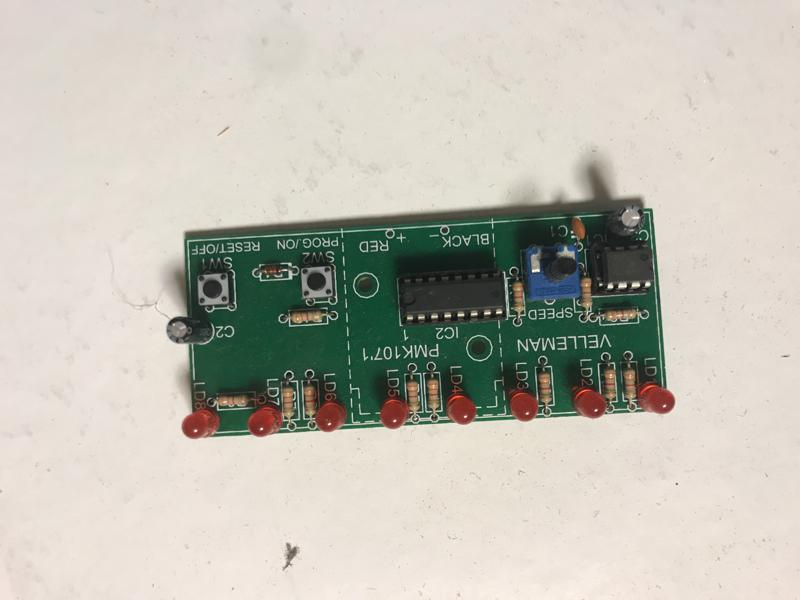Capacitor: (601, 205, 643, 243), (163, 316, 216, 346)
Diode: (257, 261, 292, 278)
LED: (636, 380, 677, 416), (569, 386, 609, 420), (504, 387, 541, 423), (181, 409, 220, 439), (376, 396, 410, 430), (445, 393, 478, 427), (246, 406, 281, 438), (313, 401, 346, 432)
Resistor: (619, 363, 642, 404), (285, 306, 331, 325), (597, 304, 643, 323), (506, 278, 528, 316), (279, 381, 299, 421), (576, 271, 595, 313), (424, 373, 442, 416), (212, 391, 255, 409), (602, 363, 620, 404), (537, 366, 555, 406), (405, 376, 422, 414), (301, 383, 319, 418)
